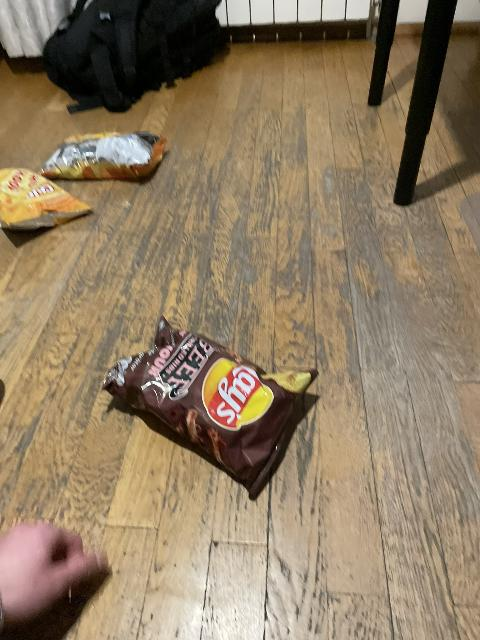Chio Cascaval 125g: (38, 131, 167, 182)
Chio Hula Hoops Cheese 70g: (1, 167, 93, 229)
Lays Beef Grilled Ribs 125g: (101, 315, 319, 497)
